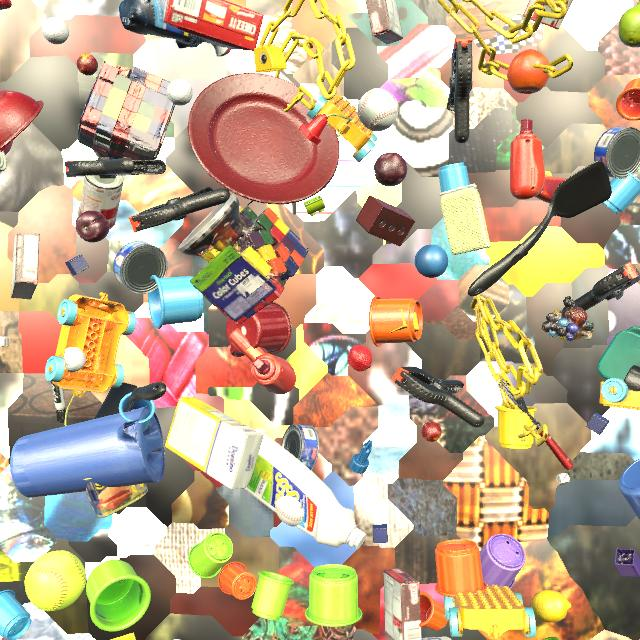ycb_003_cracker_box: (163, 0, 263, 51)
ycb_004_sugar_box: (165, 397, 264, 489), (110, 633, 136, 640), (422, 637, 452, 640)
ycb_005_tomato_soup_can: (77, 175, 124, 229), (0, 151, 7, 172)
ycb_007_tuna_fish_can: (113, 241, 168, 294), (594, 127, 640, 179), (281, 424, 319, 471)
ycb_008_pudding_box: (383, 568, 422, 640), (11, 233, 40, 300), (365, 0, 403, 44)
ycb_009_gelatin_box: (523, 0, 573, 30)
ycb_010_potted_meat_can: (84, 478, 148, 518)
ycb_012_strawberry: (347, 345, 372, 371), (0, 0, 12, 10)
ycb_013_apple: (0, 140, 13, 155)
ycb_014_lemon: (531, 590, 571, 623)
ycb_016_pear: (618, 0, 640, 47)
ycb_017_orange: (507, 49, 550, 94)
ycb_018_plum: (374, 152, 407, 186), (75, 210, 110, 242)
